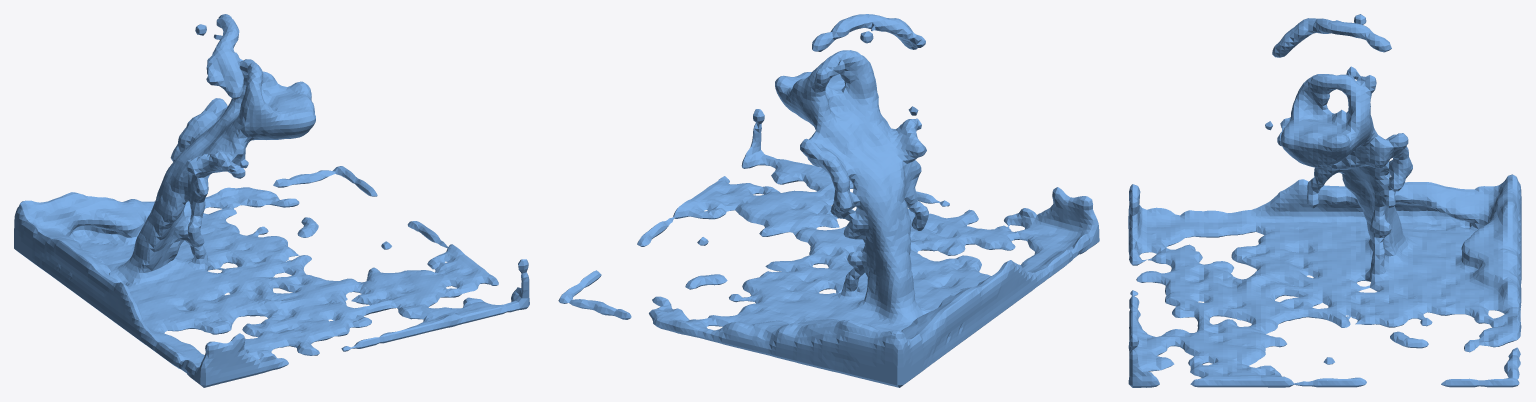
The model's file is water_0056.glb.
3 views of the same model, side by side, from view 1: azimuth 30°, elevation 25°; view 2: azimuth 150°, elevation 25°; view 3: azimuth 270°, elevation 25° (orthographic). The views are drawn at different scales.
Parts seen in each view (by area): view 1: Water_0056; view 2: Water_0056; view 3: Water_0056.
Boxes of the visible parts, <box> form: Water_0056: <box>14,14,529,387</box>; Water_0056: <box>558,14,1099,387</box>; Water_0056: <box>1128,14,1521,387</box>.
Bounding box in the file's own units: 4.83 × 3.63 × 4.83.
